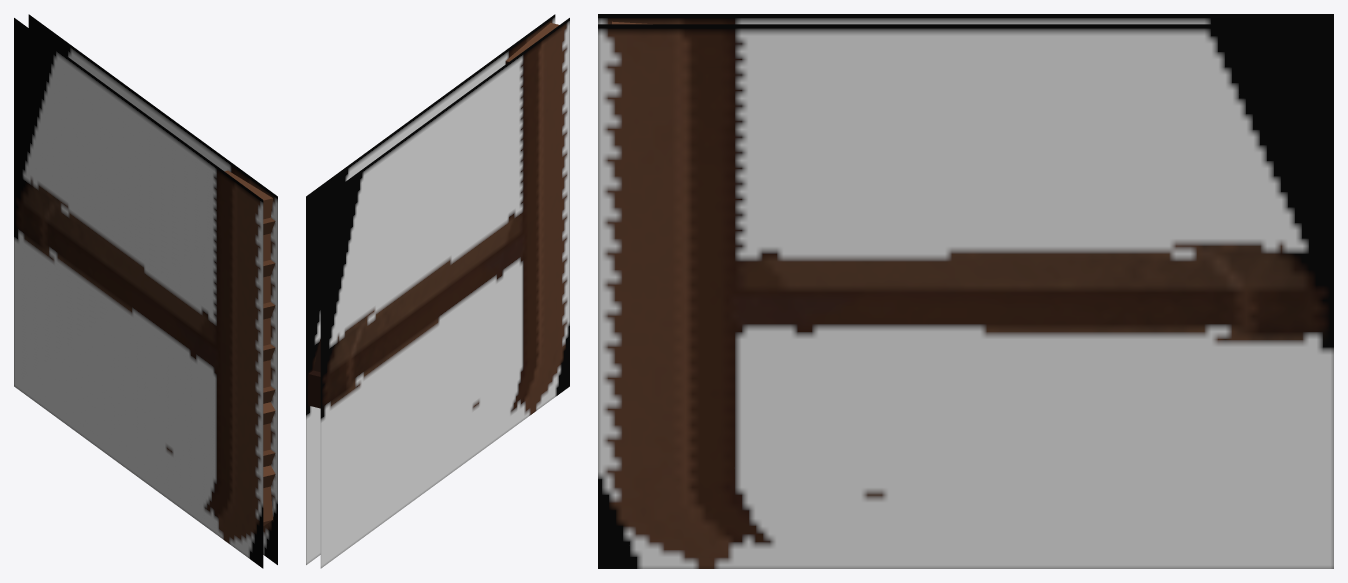
Rendered from pz_native_fixtures_railings_01_92_frame.obj.
3 views of the same model, side by side, from view 1: azimuth 30°, elevation 25°; view 2: azimuth 150°, elevation 25°; view 3: azimuth 270°, elevation 25° (orthographic). The views are drawn at different scales.
Parts seen in each view (by area): view 1: pz_native_fixtures_railings_01_92_frame; view 2: pz_native_fixtures_railings_01_92_frame; view 3: pz_native_fixtures_railings_01_92_frame.
Part boxes in pixels (x1,y1,x2,y2): pz_native_fixtures_railings_01_92_frame: (14,14,277,568); pz_native_fixtures_railings_01_92_frame: (306,14,569,568); pz_native_fixtures_railings_01_92_frame: (598,14,1333,568).
Size of the model in its own units: 0.045 by 1.09 by 1.34.
1 material, 1 textured.
